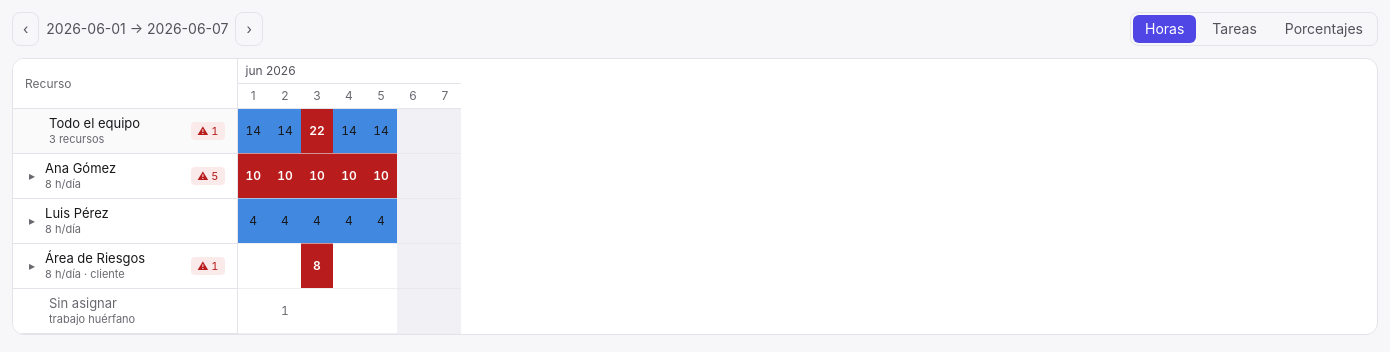
§8.5 · cambiar de modo recalcula sin recargar › en tareas, cuántas hay
This screenshot has width=1390, height=352.
Click the button "Tareas" at [1235, 29], box [1200,15,1269,43]
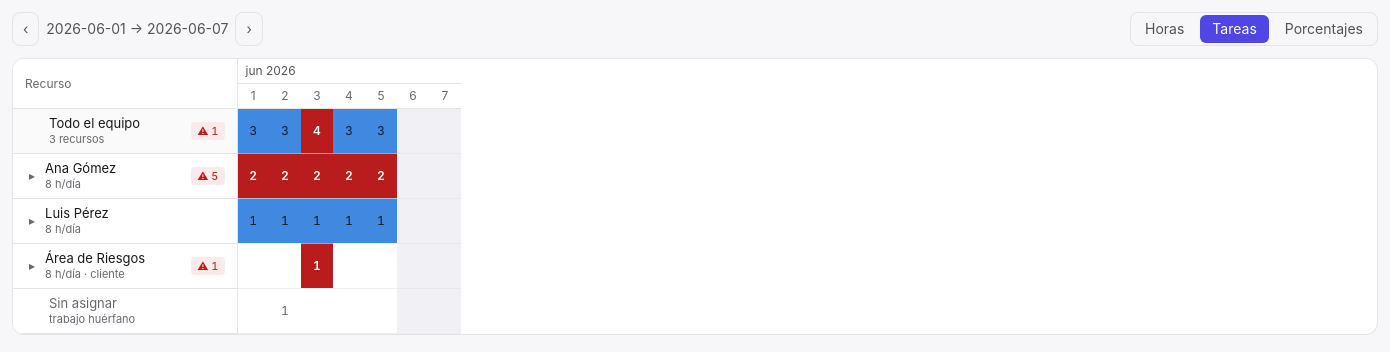
Result: the cell with test id "celda-ana-2026-06-01" reads "2" at [249,168,257,183]
